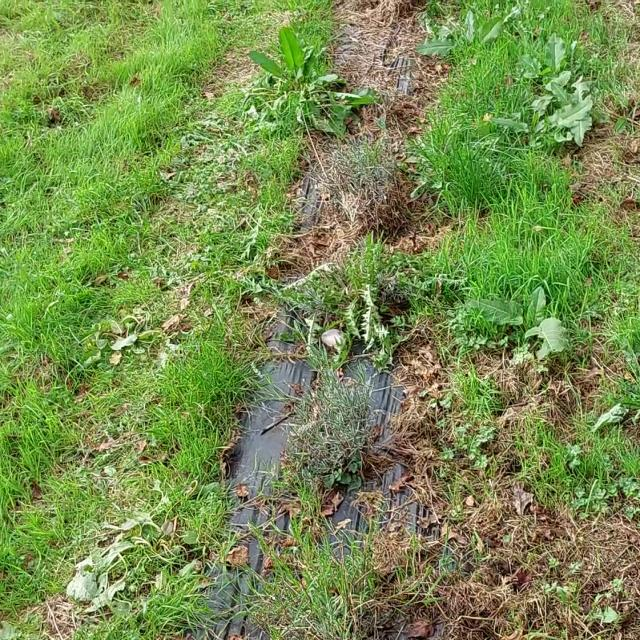organic waste: (230, 18, 376, 148), (62, 500, 212, 624), (468, 258, 596, 384), (509, 59, 634, 168), (58, 284, 189, 369), (484, 13, 600, 99), (407, 9, 533, 80)
